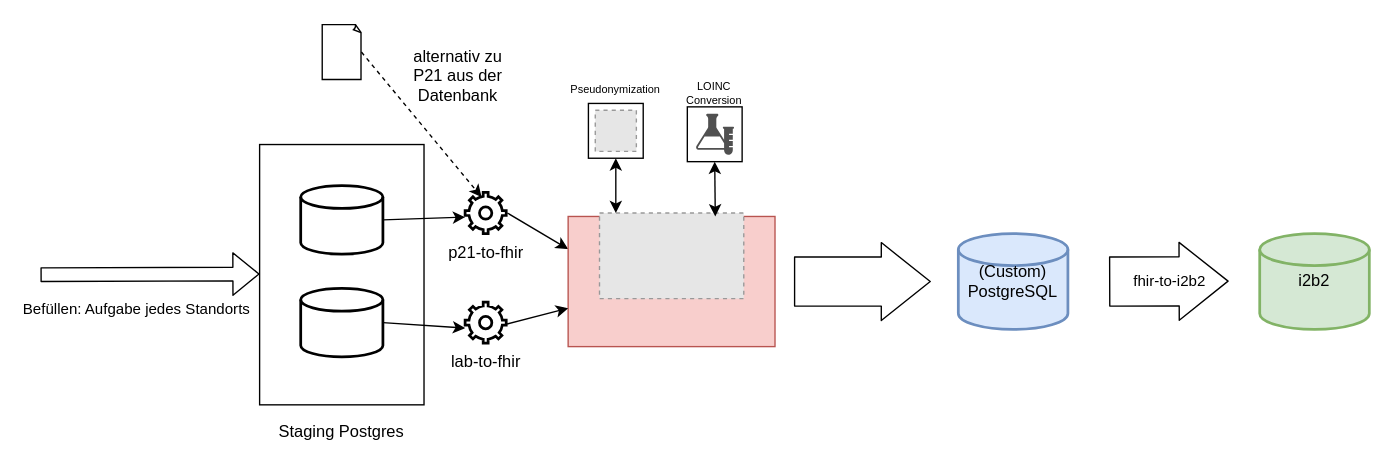
The diagram is 1395 pixels wide and 469 high, and some of its shapes have lost their labels. Grey dashed boxes stand in for pictures. Here are the shapes that lost their labels. From the top down, the centre of each, then its label:
At pixel 341 51: "CSV".
At pixel 341 219: "p21".
At pixel 341 322: "lab".
